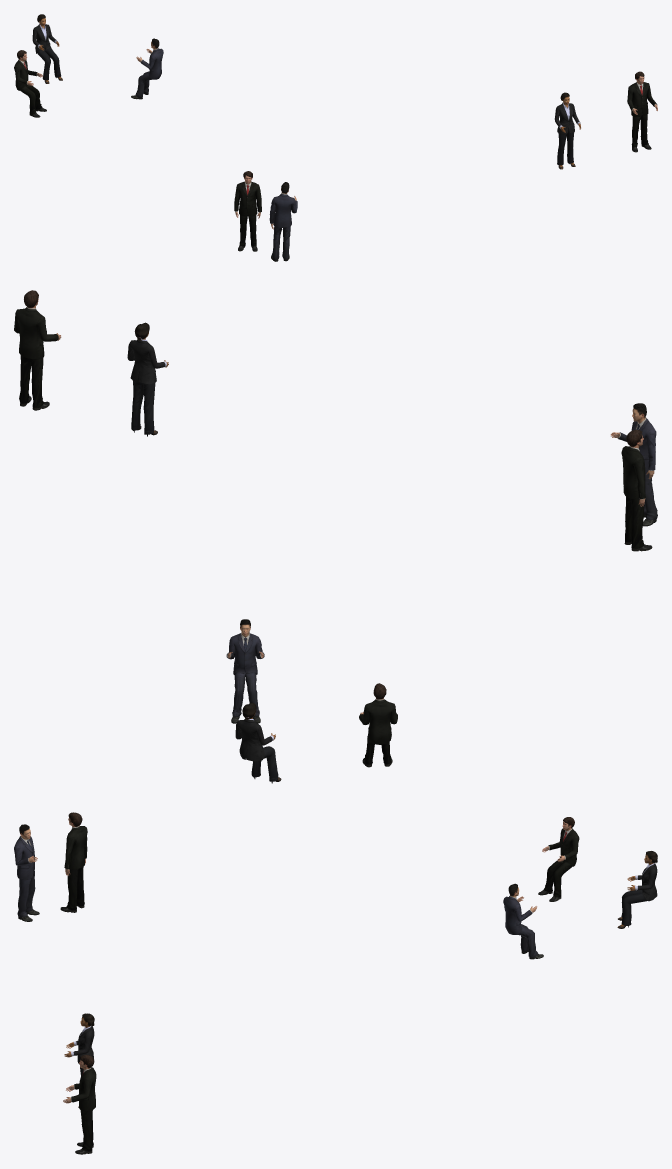
File: grand-reception-visitors.glb
The picture shows the model from 3 angles, top to bottom: view 1: azimuth 30°, elevation 25°; view 2: azimuth 150°, elevation 25°; view 3: azimuth 270°, elevation 25°; orthographic projection. The views are drawn at different scales.
Visible parts, largest first — view 1: Rocketbox | Business_Male_01 | body | interior, Rocketbox | Business_Male_02 | body | interior, Rocketbox | Business_Female_01 | body | interior; view 2: Rocketbox | Business_Male_01 | body | interior, Rocketbox | Business_Female_01 | body | interior, Rocketbox | Business_Male_02 | body | interior; view 3: Rocketbox | Business_Male_01 | body | interior, Rocketbox | Business_Male_02 | body | interior, Rocketbox | Business_Female_01 | body | interior.
Boxes of the visible parts, x1,y1,x2,y2 form: Rocketbox | Business_Male_01 | body | interior: (14,50,657,251); Rocketbox | Business_Male_02 | body | interior: (131,38,297,261); Rocketbox | Business_Female_01 | body | interior: (32,14,580,169); Rocketbox | Business_Male_01 | body | interior: (14,290,652,767); Rocketbox | Business_Female_01 | body | interior: (127,322,281,783); Rocketbox | Business_Male_02 | body | interior: (226,403,657,723); Rocketbox | Business_Male_01 | body | interior: (60,812,579,1154); Rocketbox | Business_Male_02 | body | interior: (14,824,543,959); Rocketbox | Business_Female_01 | body | interior: (64,851,657,1107).
Bounding box in the file's own units: 10.78 × 1.78 × 10.85.
Materials: 9 (9 with a texture image).
